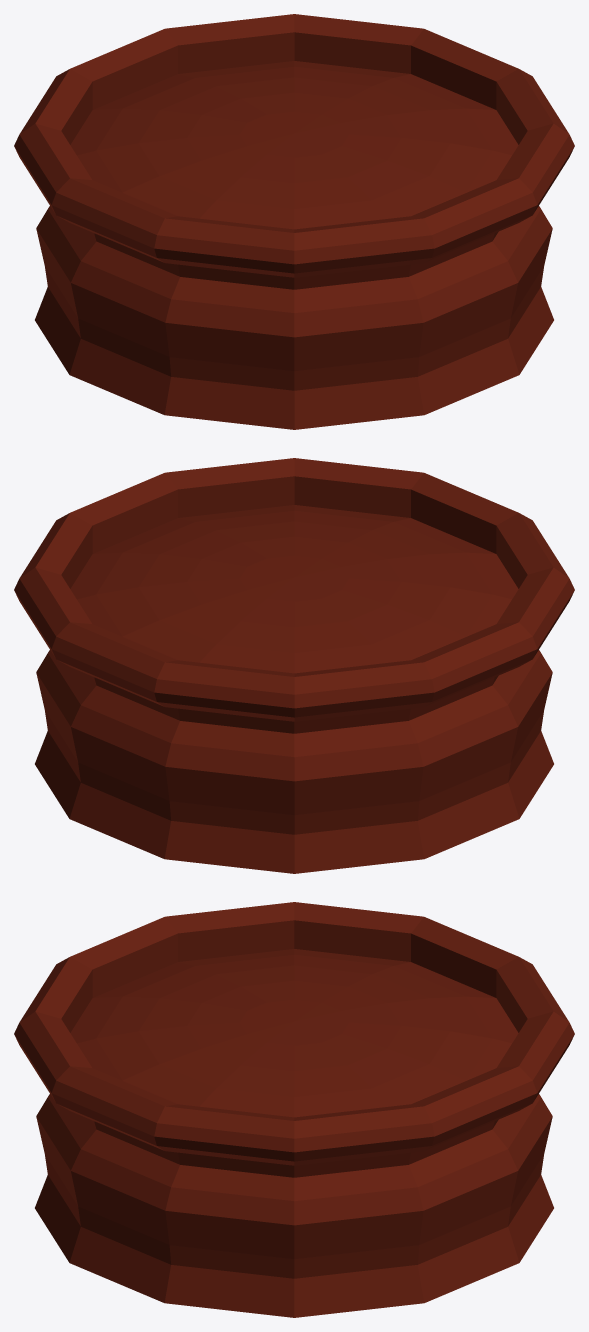
The picture shows the model from 3 angles, top to bottom: view 1: azimuth 30°, elevation 25°; view 2: azimuth 150°, elevation 25°; view 3: azimuth 270°, elevation 25°; orthographic projection.
Parts seen in each view (by area): view 1: base; view 2: base; view 3: base.
Part boxes in pixels (x1,y1,x2,y2): base: [14, 14, 574, 429]; base: [14, 458, 574, 873]; base: [14, 902, 574, 1317].
Size of what is drawn, in the model's own units: 2.09 by 2.09 by 0.8466.
